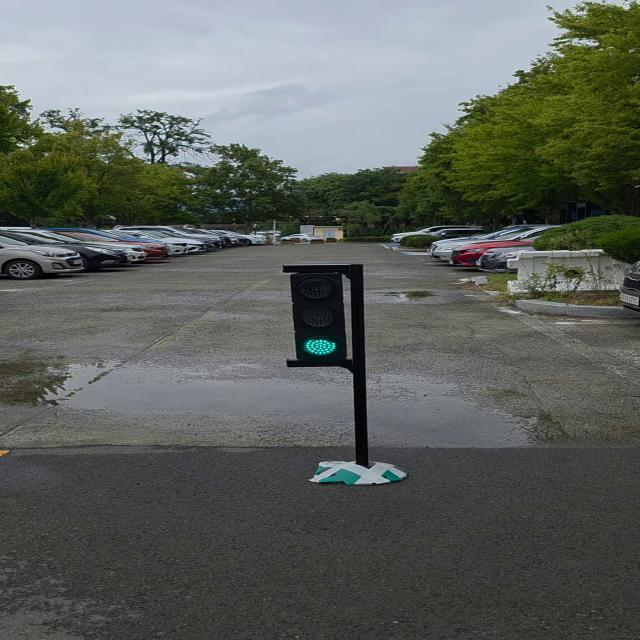green: (291, 263, 358, 369)
